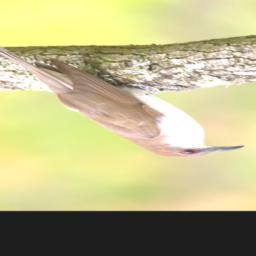Cuckoo: (0, 22, 248, 159)
